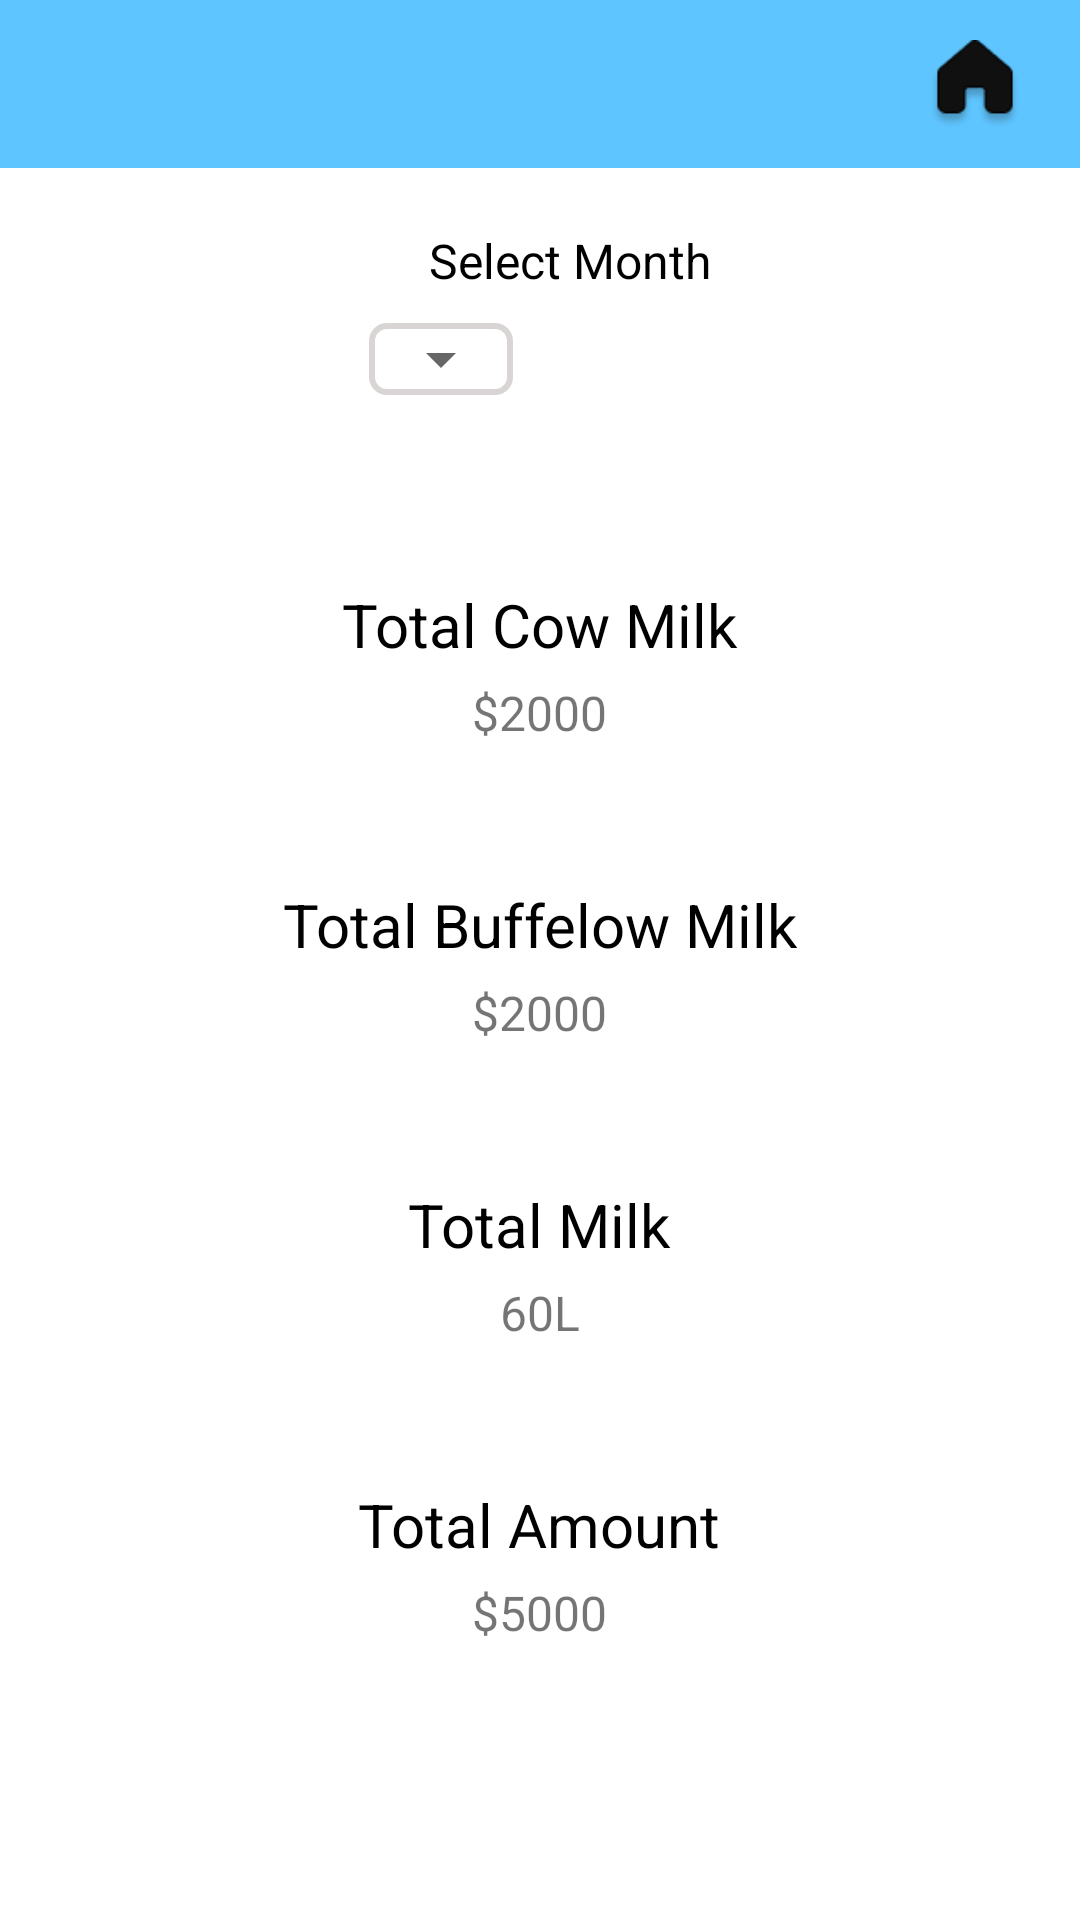

Named icons in this screenshot (1080×1920) and their bounding boxes, detection(x1, y1, x2, y2):
home: detection(936, 40, 1014, 121)
